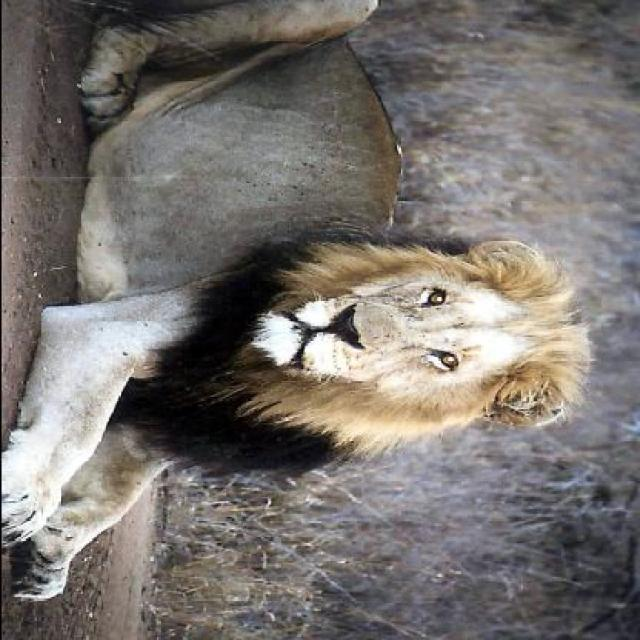Lion: (2, 4, 604, 638)
